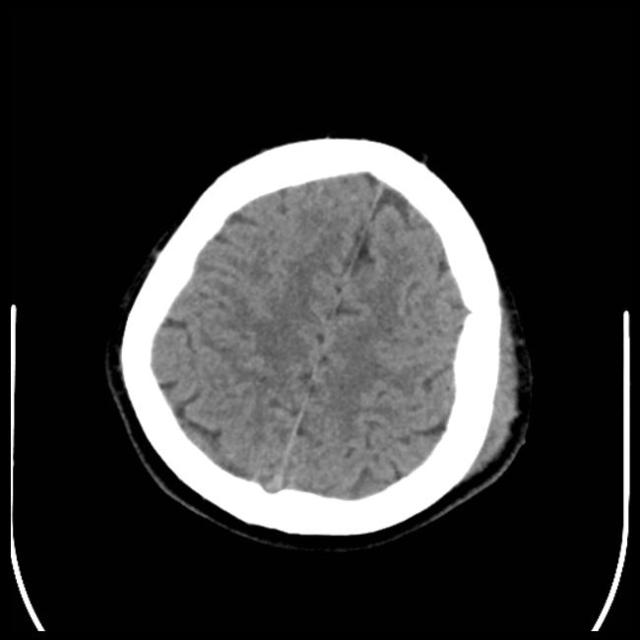lesion: (106, 131, 534, 551)
